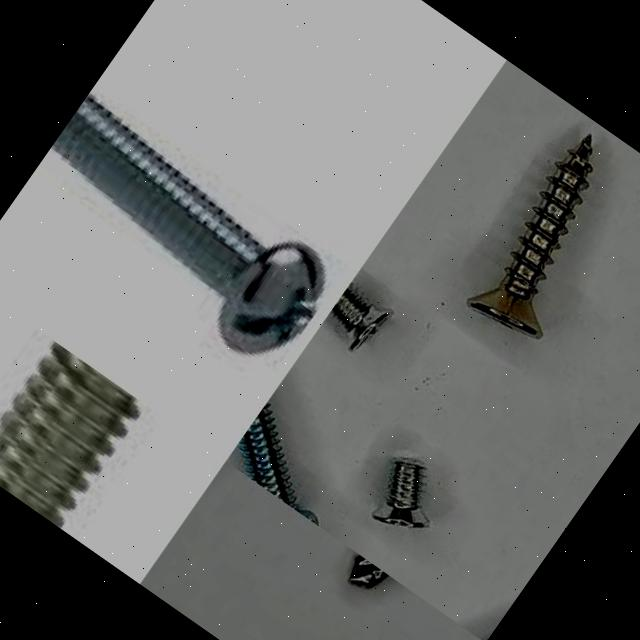Screw: (49, 92, 325, 360), (0, 339, 143, 527), (467, 135, 592, 338), (329, 284, 392, 349), (372, 459, 428, 528)
